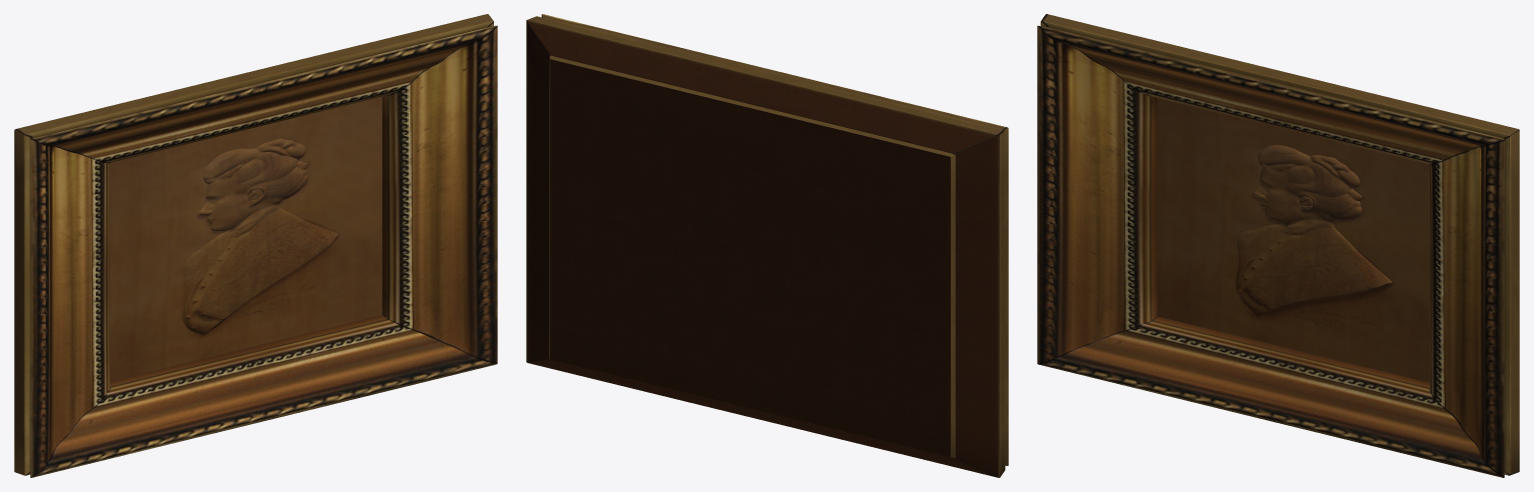
Rendered from daamiportree-reljeef.glb.
The picture shows the model from 3 angles, left to right: view 1: azimuth 30°, elevation 25°; view 2: azimuth 150°, elevation 25°; view 3: azimuth 330°, elevation 25°; orthographic projection.
Parts seen in each view (by area): view 1: model; view 2: model; view 3: model.
Part boxes in pixels (x1,y1,x2,y2): model: (14,14,497,477); model: (526,14,1008,477); model: (1037,14,1519,477).
Size of the model in its own units: 3.09 by 2.14 by 0.2988.
1 material, 1 textured.
